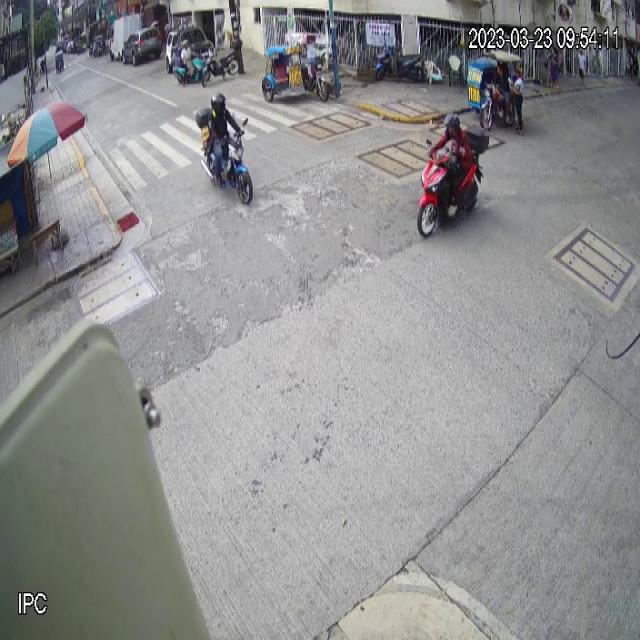Motorcycle: (416, 125, 490, 239), (194, 104, 253, 204)
Tricycle: (262, 32, 330, 103), (467, 50, 521, 130)
